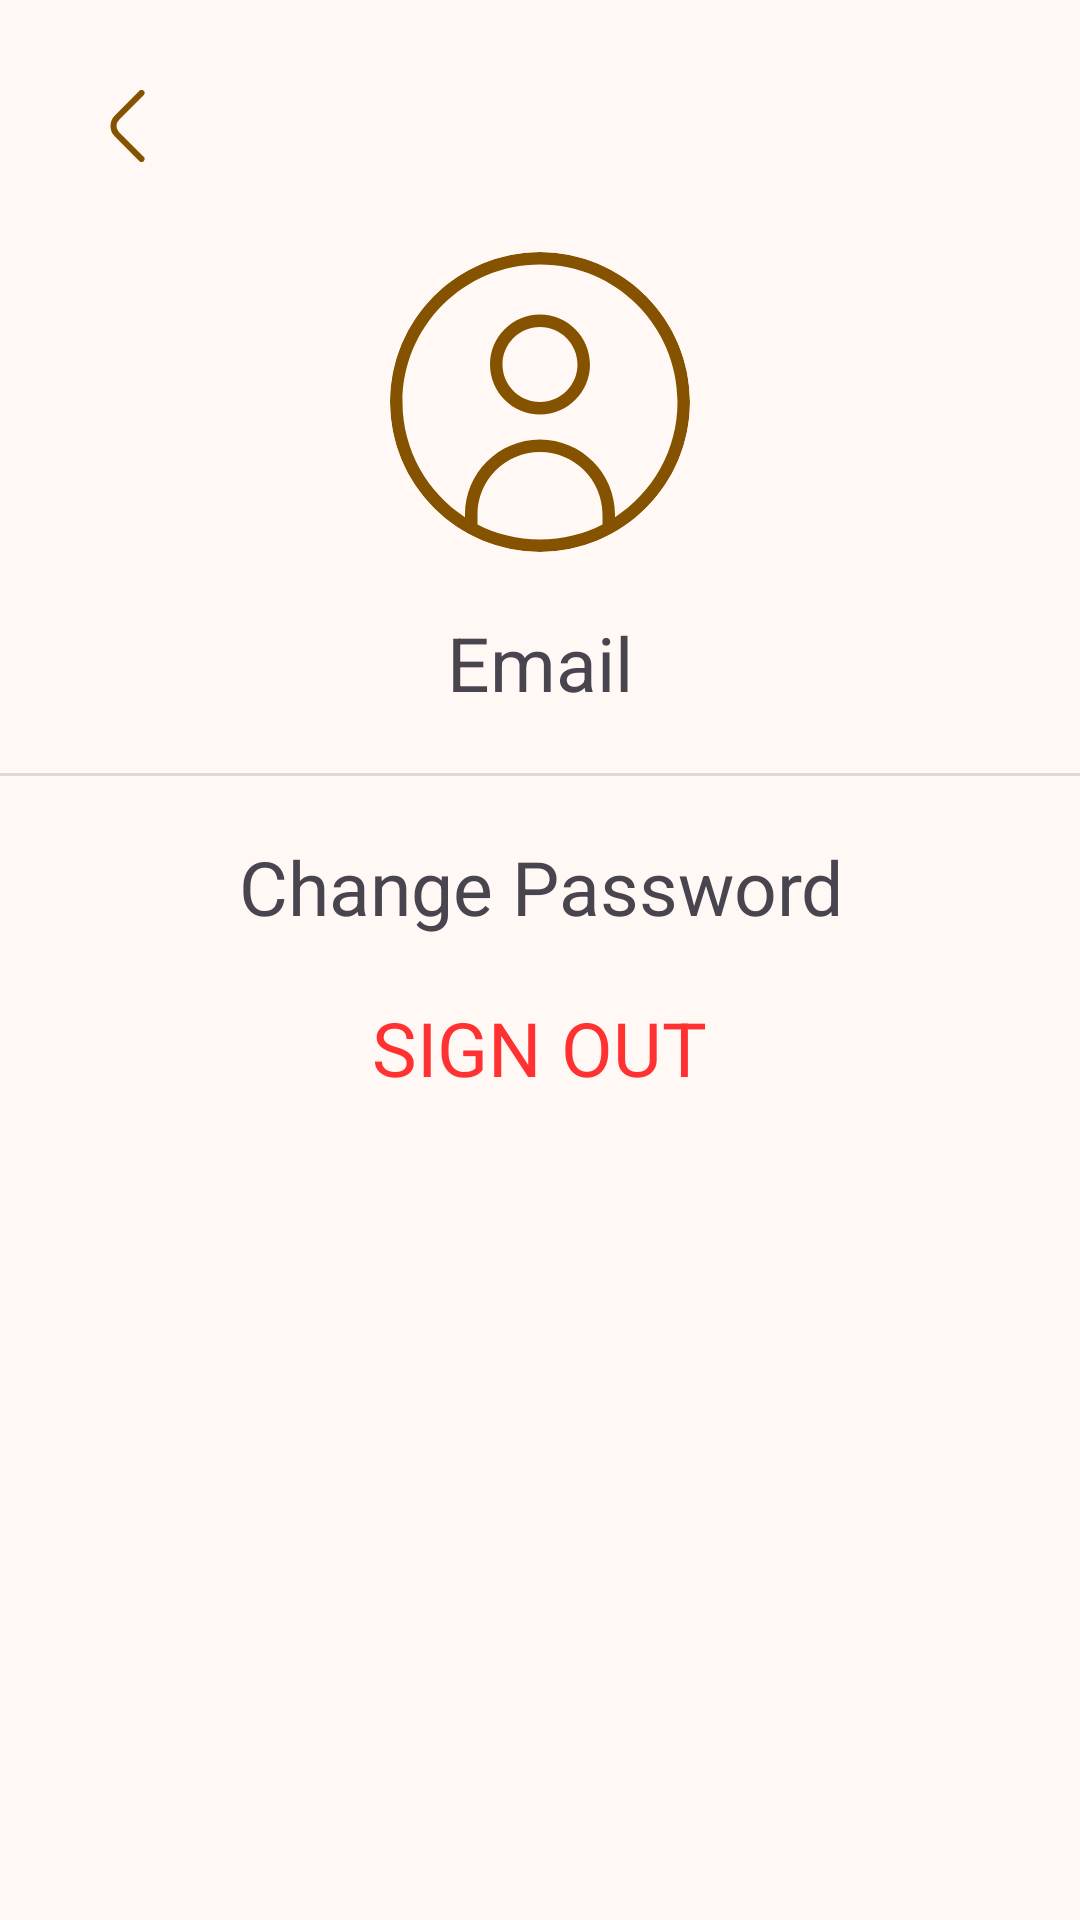

Icon bounding boxes for this 1080px×1920px phone screenshot, format box=[x1, y1, x2, y2]:
back: box=[110, 90, 145, 162]
user: box=[390, 252, 690, 552]
